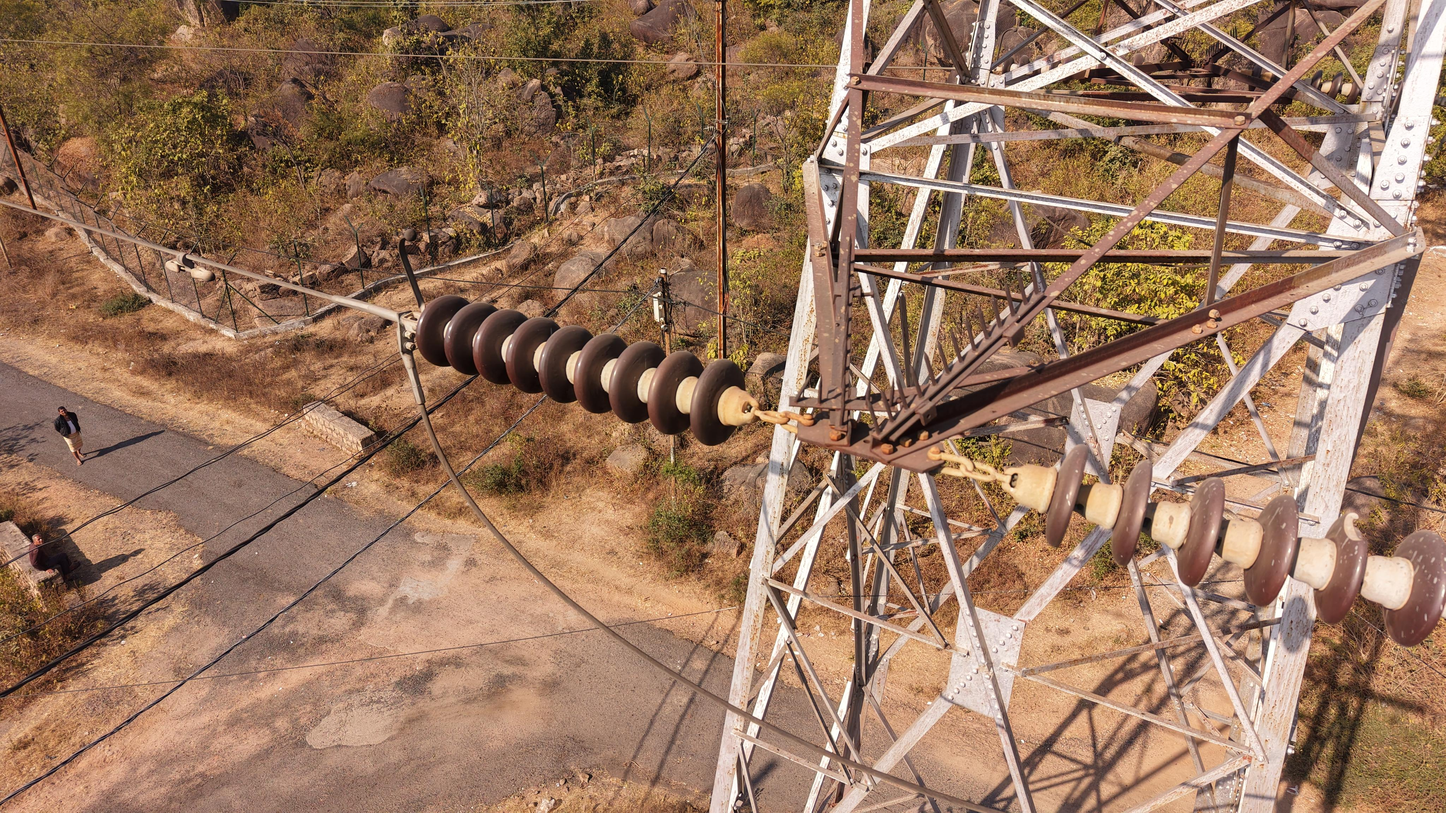broken_insulator: (1319, 502, 1371, 633)
